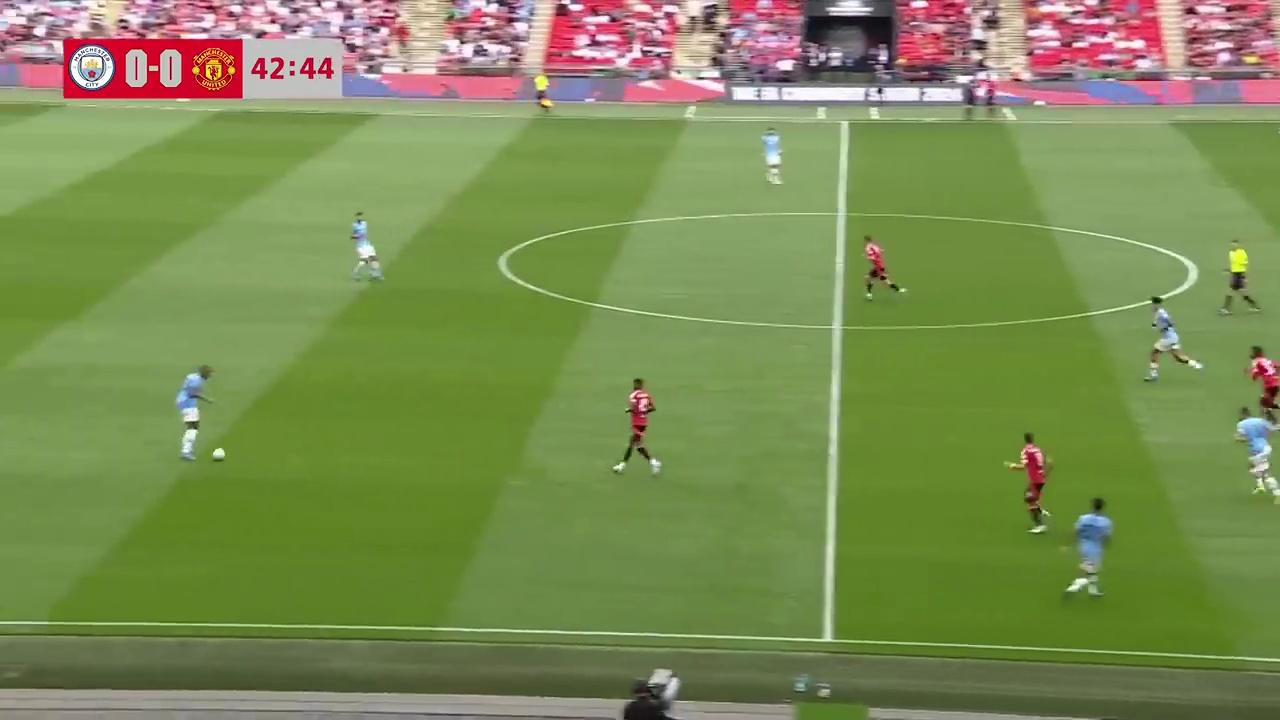ball: (211, 444, 227, 461)
player: (1061, 496, 1113, 599), (612, 378, 662, 477), (1003, 432, 1051, 532), (1232, 404, 1279, 503), (174, 365, 221, 461), (1145, 296, 1193, 380), (1243, 345, 1280, 430), (862, 234, 907, 300), (349, 211, 385, 283), (760, 128, 783, 185)
referee: (1218, 238, 1260, 316), (532, 68, 553, 114)
